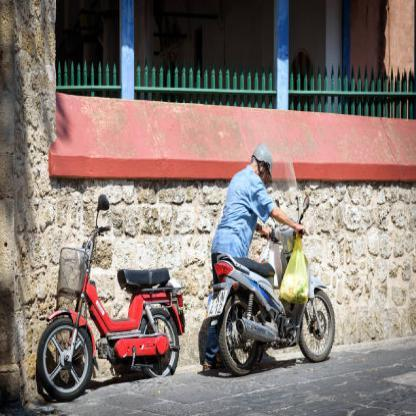Motorcycle: (39, 222, 190, 409), (194, 207, 344, 375)
